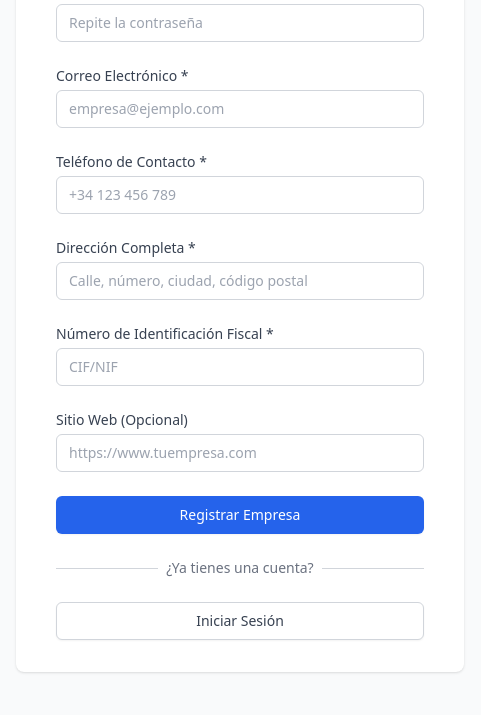
Scenario: CompanyRegistration Component › validates required phone field
The width and height of the screenshot is (481, 715).
(page scrolled)
Leave phone field empty and try to submit
What coordinates should you click on to do the following:
click the button "Registrar Empresa"
I would click on:
 (240, 515)
Its box is [56,496,424,534].
(page scrolled)
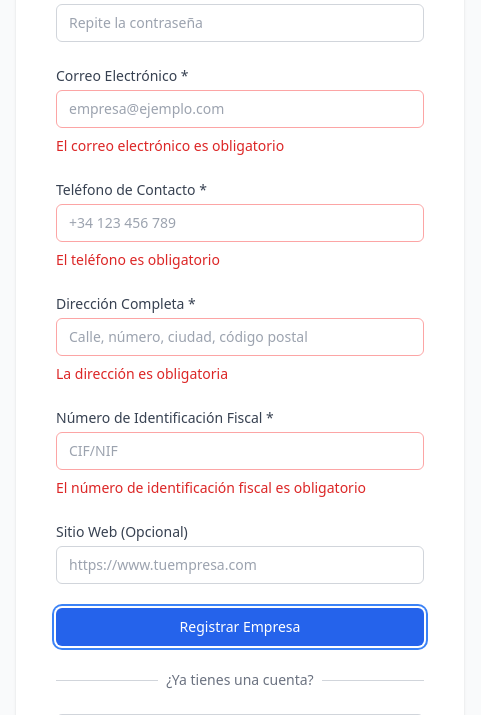
Now the text "El teléfono es obligatorio" is shown, box [56,250,220,269]
